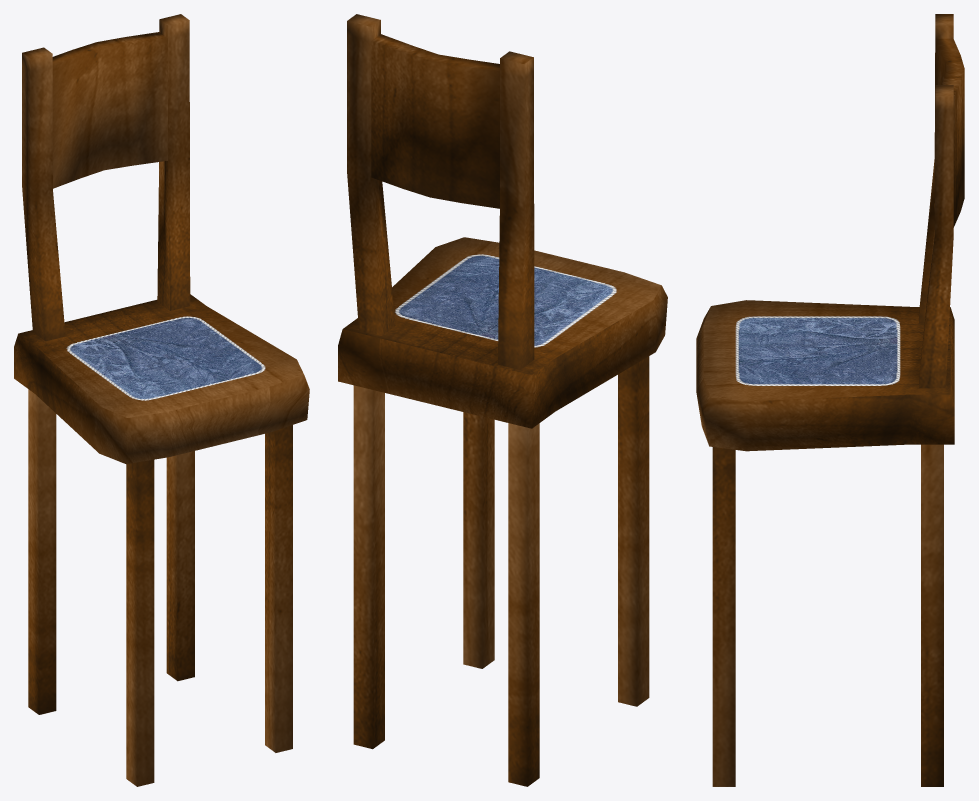
The model's file is Chair.fbx.
3 renders of one model, left to right at view 1: azimuth 30°, elevation 25°; view 2: azimuth 150°, elevation 25°; view 3: azimuth 270°, elevation 25°, orthographic. The views are drawn at different scales.
Visible parts, largest first — view 1: Chair; view 2: Chair; view 3: Chair.
Part boxes in pixels (left/top/right/bottom): Chair: left=14, top=14, right=309, bottom=786; Chair: left=338, top=14, right=667, bottom=786; Chair: left=696, top=14, right=964, bottom=786.
Size of the model in its own units: 0.3928 by 1.22 by 0.4306.
